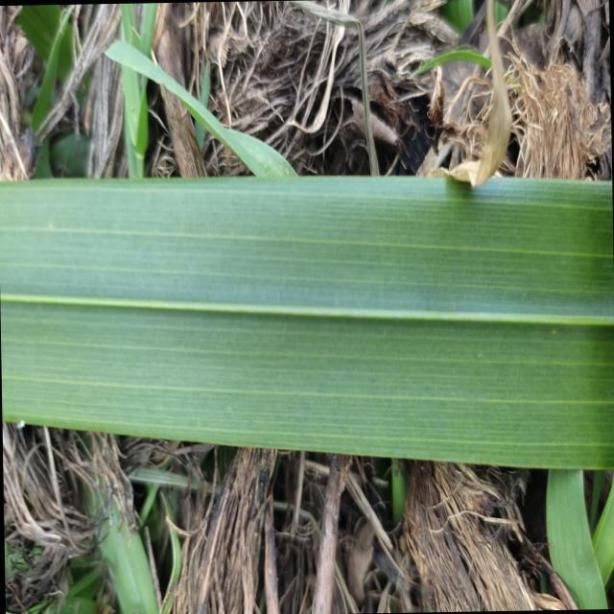Healthy: (3, 179, 614, 469)
